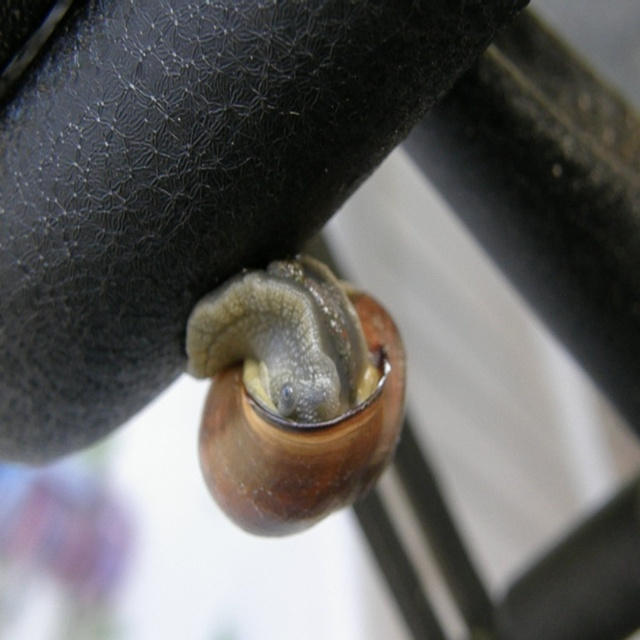Snail: (182, 247, 408, 541)
